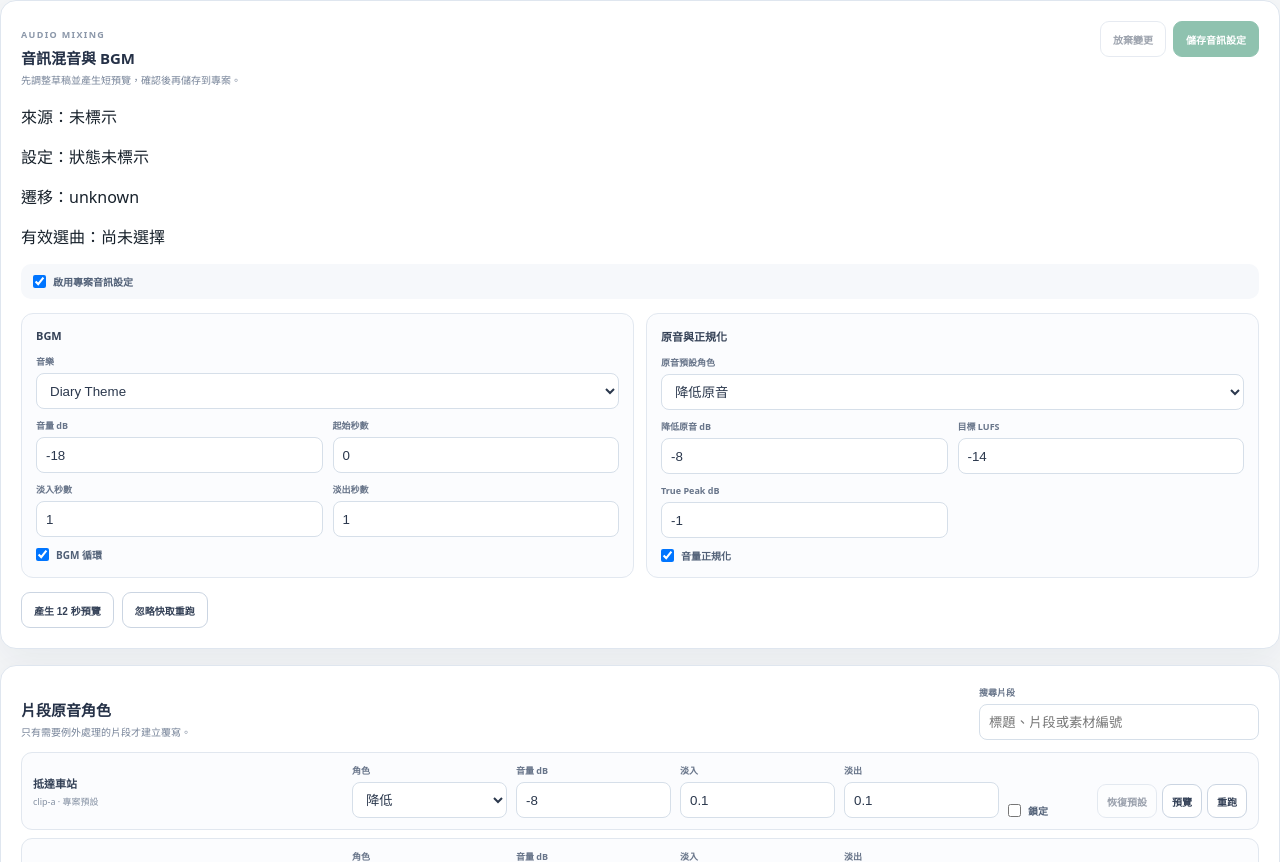
Scenario: AudioMixingWorkspace › marks local edits dirty and can restore the server baseline
Replace the text in the number field labelled "音量 dB" below "起始秒數" with "-12" at (179, 455), box [36,437,322,473]
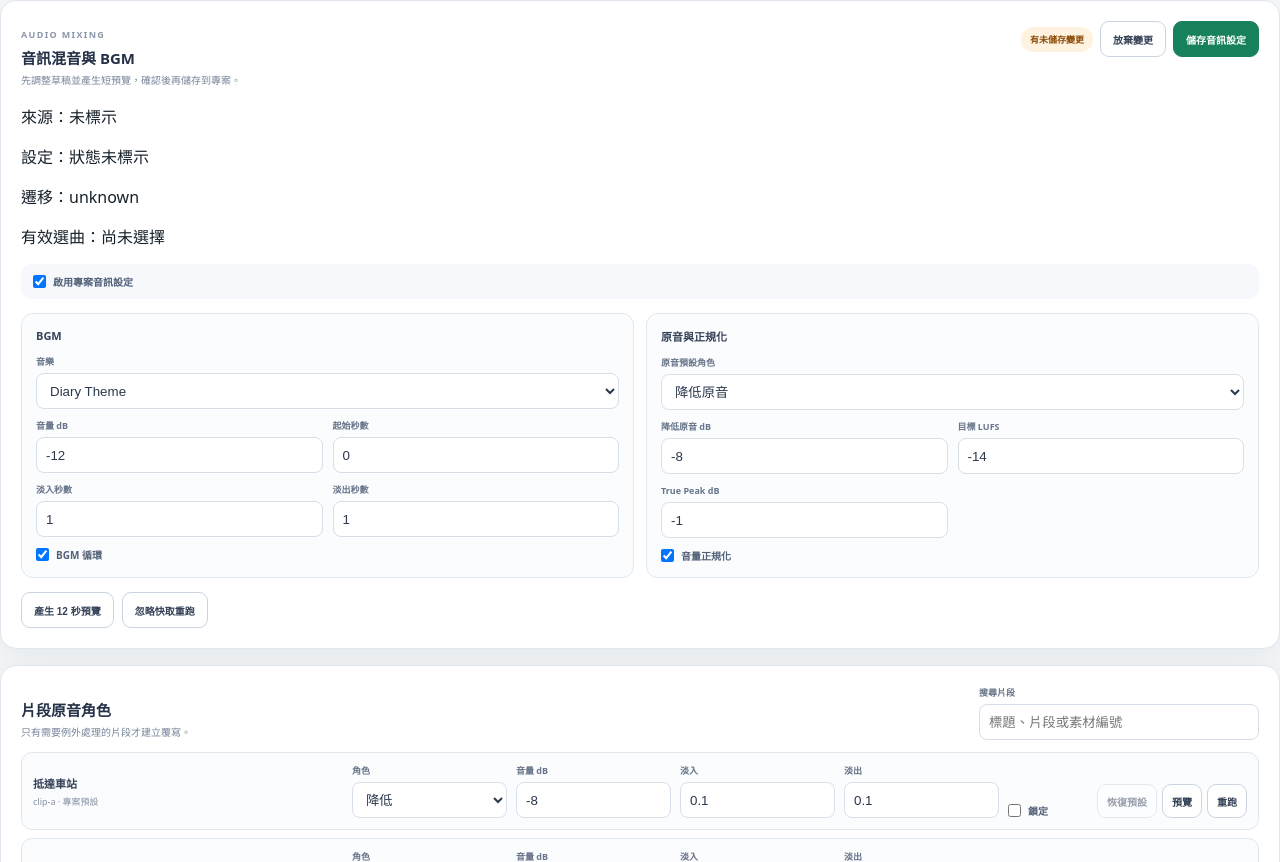
Expected: the text "有未儲存變更" is shown, [1021,26,1093,52]
Expected: the button "儲存音訊設定" is enabled, [1173,21,1259,57]
Click the button "放棄變更" at (1133, 39), box [1100,21,1166,57]
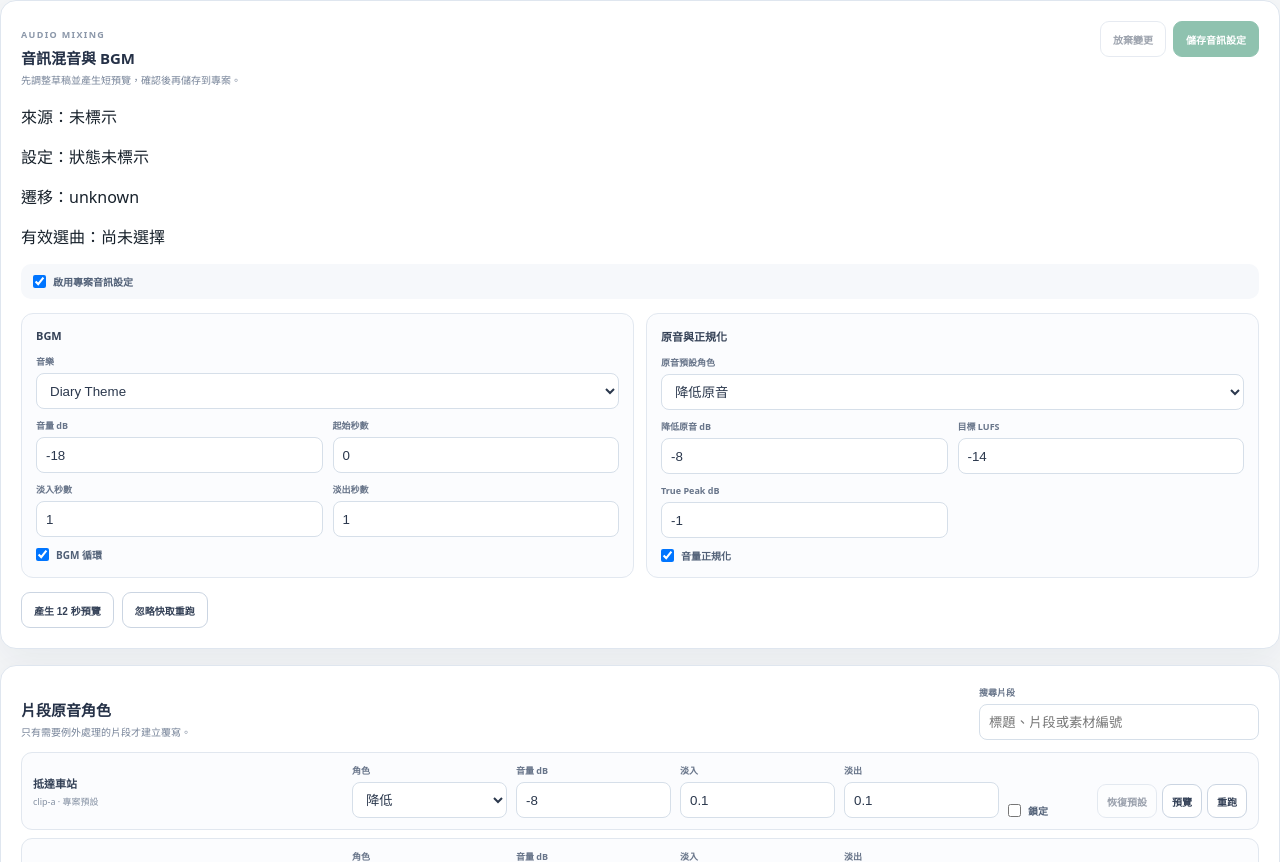
Expected: the number field labelled "音量 dB" below "起始秒數" holds "-18", [36,437,322,473]
Expected: the text "有未儲存變更" is gone
